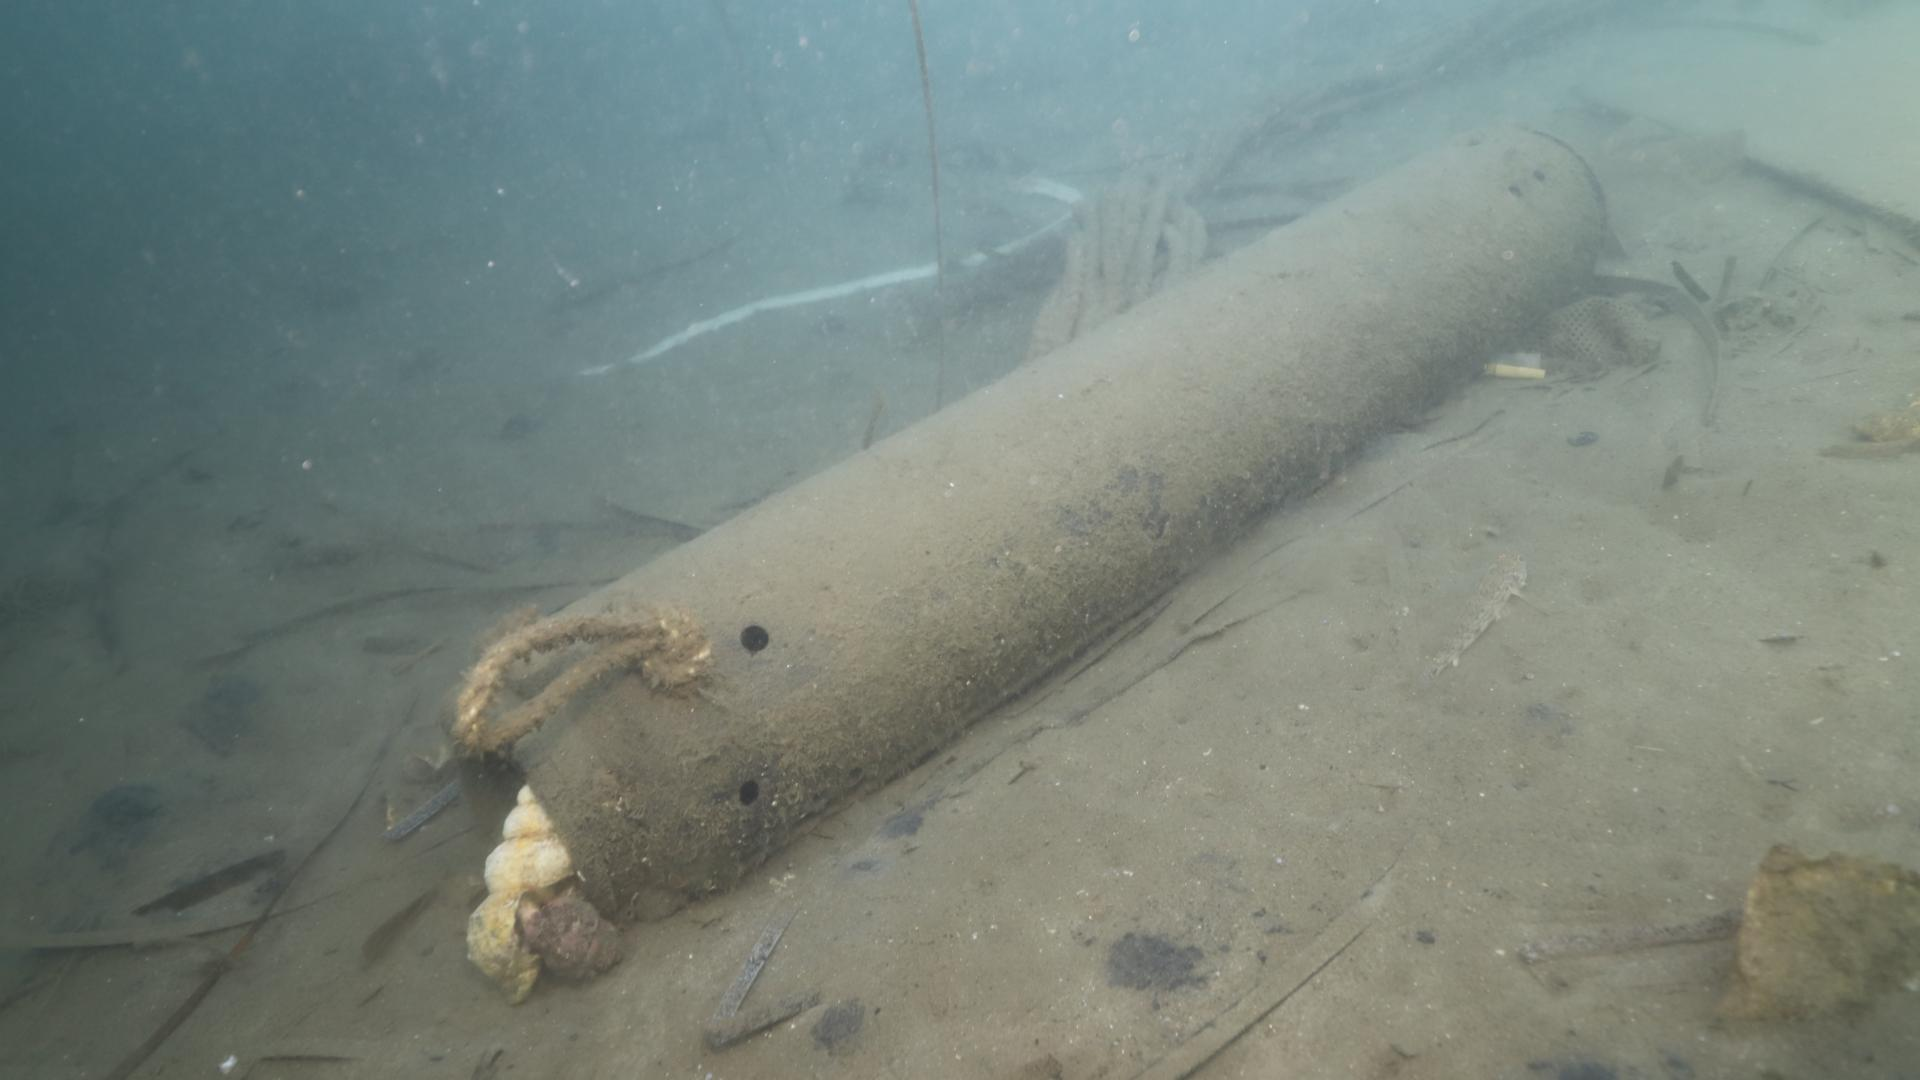bundle of ropes: (1025, 1, 1602, 349), (451, 604, 715, 762)
eel fish trap: (435, 121, 1610, 922)
